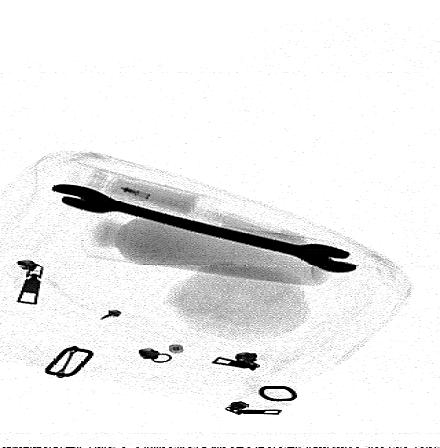Wrench: (52, 184, 356, 273)
